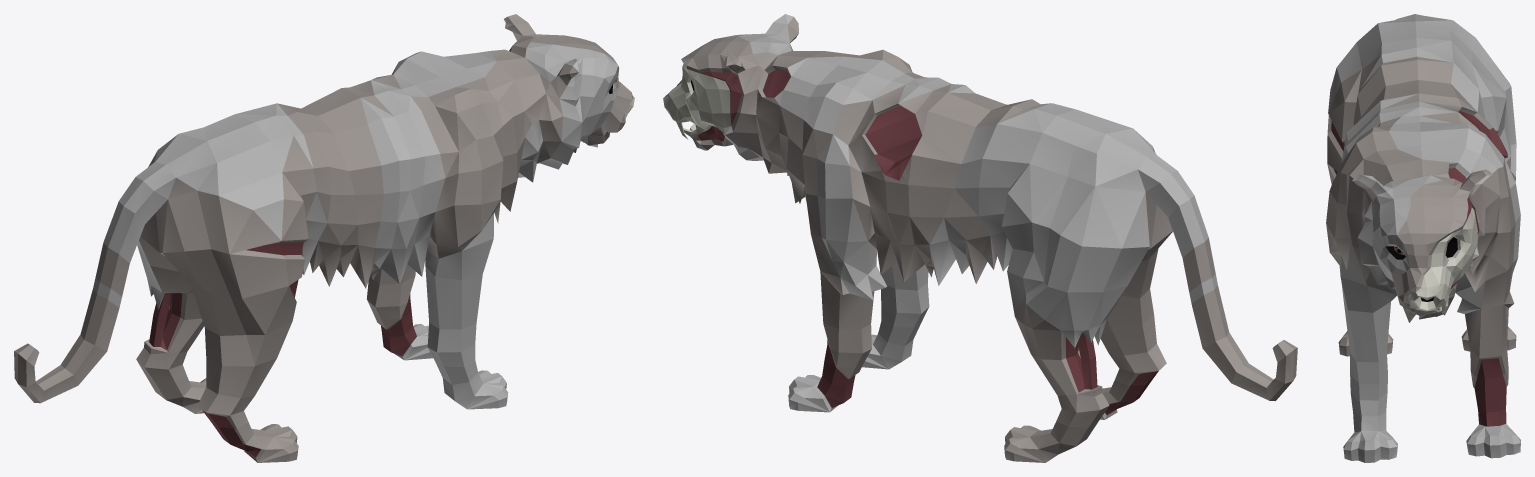
The model's file is tiger.glb.
3 views of the same model, side by side, from view 1: azimuth 30°, elevation 25°; view 2: azimuth 150°, elevation 25°; view 3: azimuth 270°, elevation 25° (orthographic).
Visible parts, largest first — view 1: Object_9, Object_10, Object_11; view 2: Object_10, Object_9, Object_11, Object_12; view 3: Object_10, Object_9, Object_12, Object_11, Object_14.
Part boxes in pixels (x1,y1,x2,y2): Object_9: (14, 14, 632, 462); Object_10: (93, 42, 619, 409); Object_11: (149, 242, 416, 457); Object_10: (716, 14, 1217, 412); Object_9: (677, 17, 1297, 462); Object_11: (694, 70, 1158, 414); Object_12: (663, 64, 731, 139); Object_10: (1328, 14, 1520, 462); Object_9: (1326, 55, 1516, 387); Object_12: (1407, 207, 1477, 314); Object_11: (1331, 110, 1507, 426); Object_14: (1385, 237, 1457, 301).
Size of the model in its own units: 2.07 by 1.04 by 0.5587.
